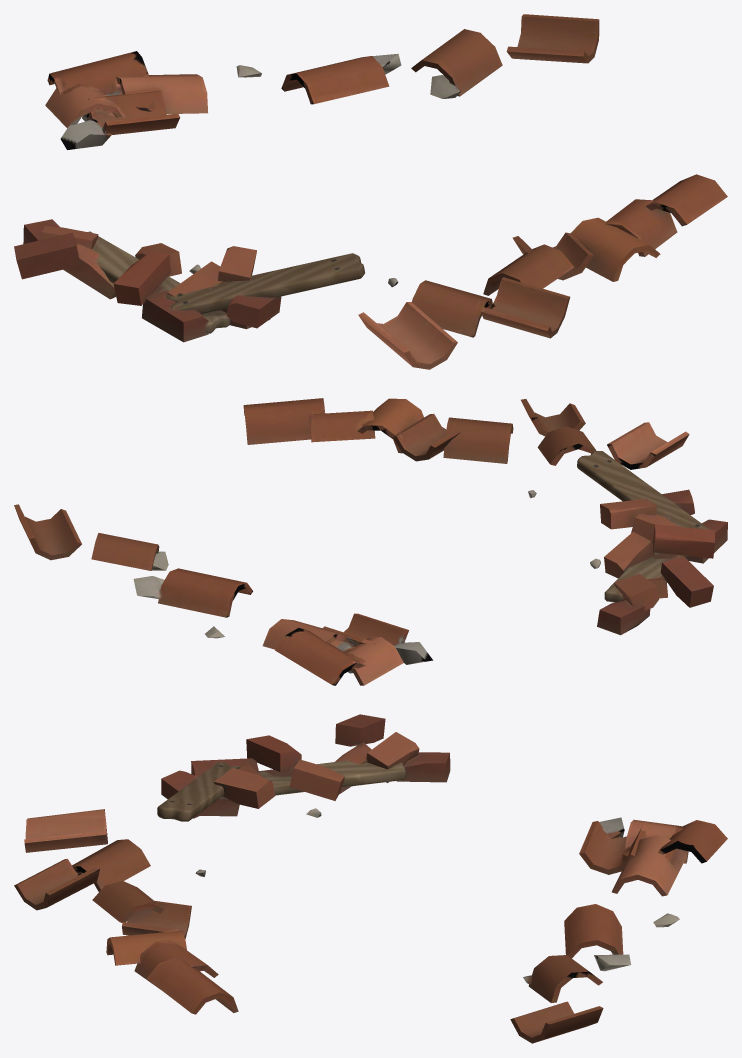
The model's file is rough-town-1.glb.
3 views of the same model, one above another, from view 1: azimuth 30°, elevation 25°; view 2: azimuth 150°, elevation 25°; view 3: azimuth 270°, elevation 25° (orthographic). The views are drawn at different scales.
Parts seen in each view (by area): view 1: rough-town-1; view 2: rough-town-1; view 3: rough-town-1.
Part boxes in pixels (x1,y1,x2,y2): rough-town-1: (14, 14, 727, 369); rough-town-1: (14, 398, 727, 685); rough-town-1: (14, 714, 727, 1043).
Size of the model in its own units: 1.82 by 0.154 by 1.78.
Materials: 1 (1 with a texture image).
